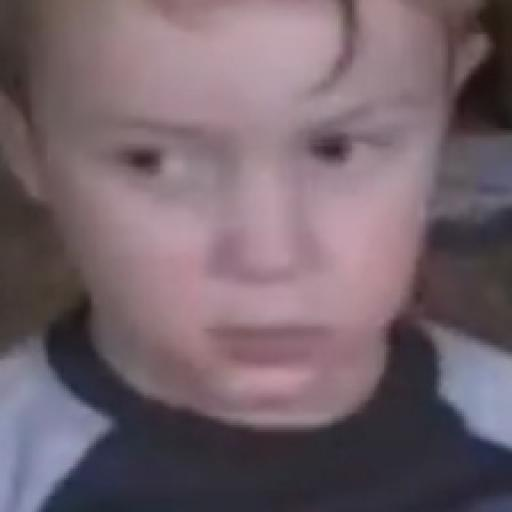Autism: (24, 8, 491, 430)
